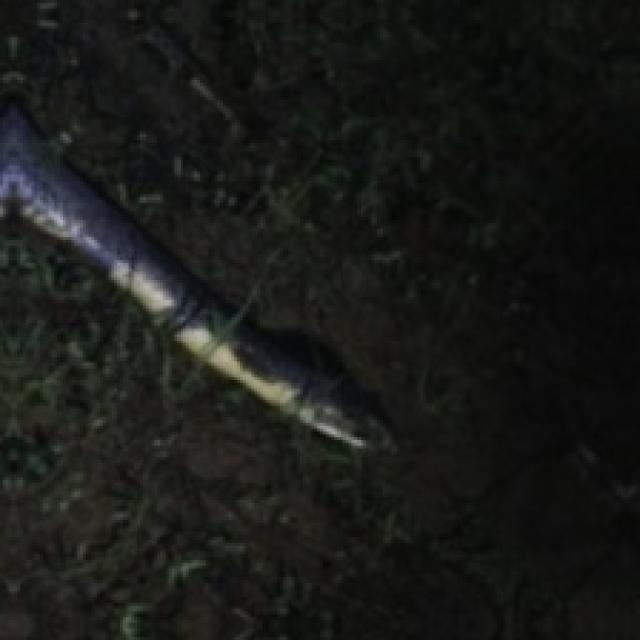king cobra: (0, 103, 391, 446)
